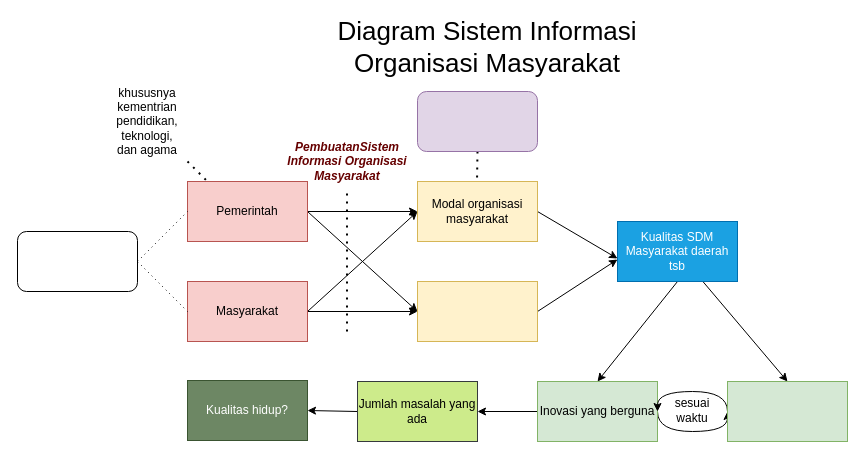
Some shapes in this 865 by 460 pixel diagram are drawn without their labels. Here are the shapes that lost their labels. From the top down, the box of each, then its label:
(416, 90, 538, 152): contohnya masjid, karang taruna, dll
(16, 230, 138, 292): Resources, Power, Uang, dll
(416, 280, 538, 342): Kemampuan manajemen organisasi masyarakat
(726, 380, 848, 442): Inovasi yang destruktif
